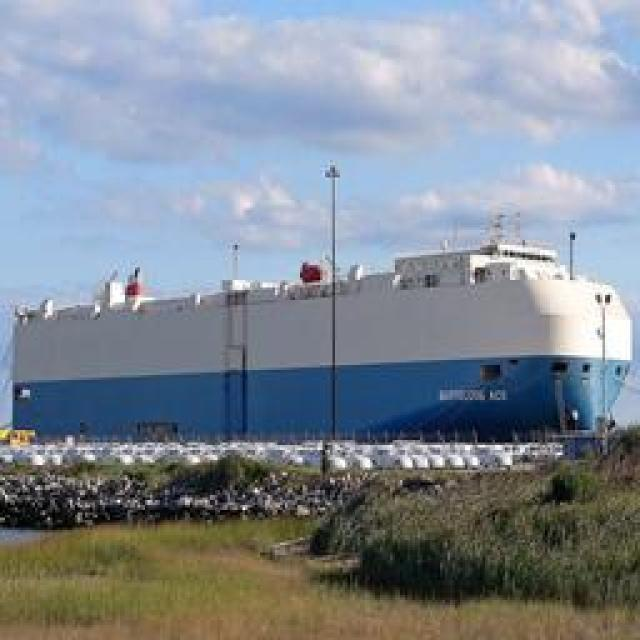CIV_Ship: (10, 231, 630, 464)
